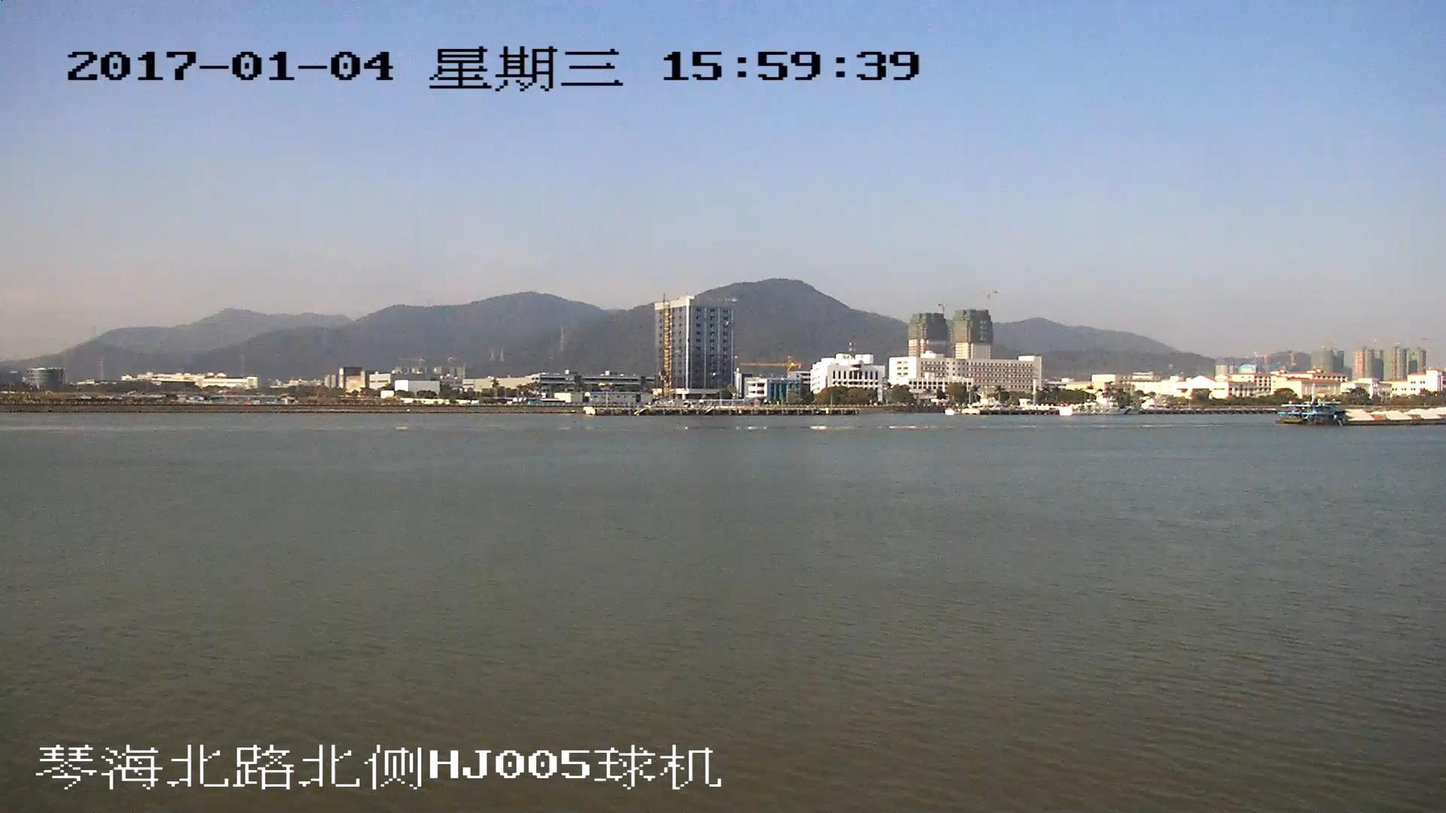ore carrier: (1276, 400, 1445, 425)
